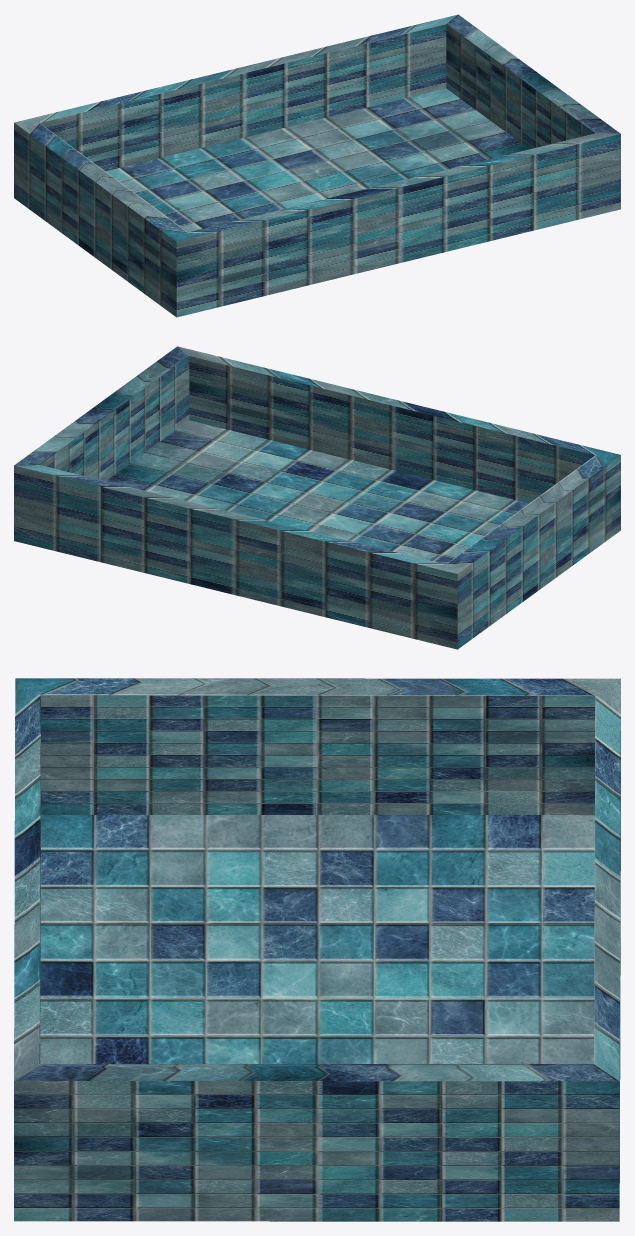
File: pool.glb
3 views of the same model, one above another, from view 1: azimuth 30°, elevation 25°; view 2: azimuth 150°, elevation 25°; view 3: azimuth 270°, elevation 25° (orthographic). The views are drawn at different scales.
Visible parts, largest first — view 1: 立方体; view 2: 立方体; view 3: 立方体.
Part boxes in pixels (x1,y1,x2,y2): 立方体: (14,14,620,317); 立方体: (14,346,620,649); 立方体: (14,678,620,1221).
Size of the model in its own units: 4.29 by 0.6964 by 2.73.
Materials: 1 (1 with a texture image).
